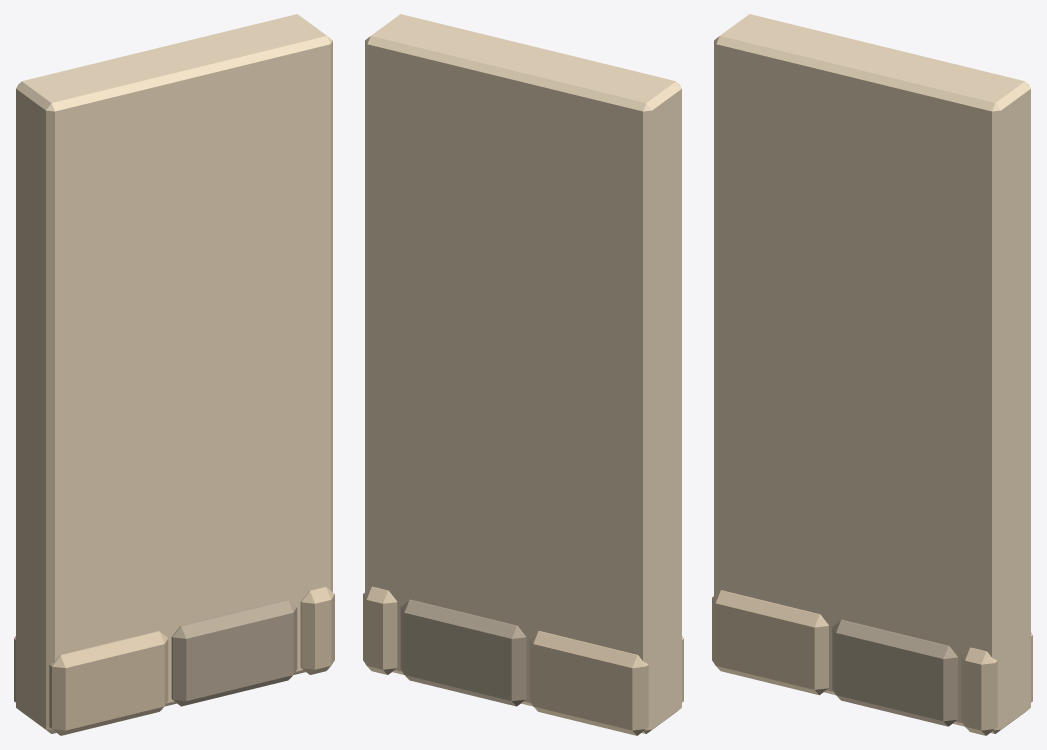
Rendered from wall_1m.glb.
The picture shows the model from 3 angles, left to right: view 1: azimuth 30°, elevation 25°; view 2: azimuth 150°, elevation 25°; view 3: azimuth 330°, elevation 25°; orthographic projection.
Visible parts, largest first — view 1: wall_1m; view 2: wall_1m; view 3: wall_1m.
Part boxes in pixels (<box>): wall_1m: <box>14,14,334,735</box>; wall_1m: <box>363,14,683,735</box>; wall_1m: <box>712,14,1032,735</box>.
Bounding box in the file's own units: 1 × 2.1 × 0.29.
